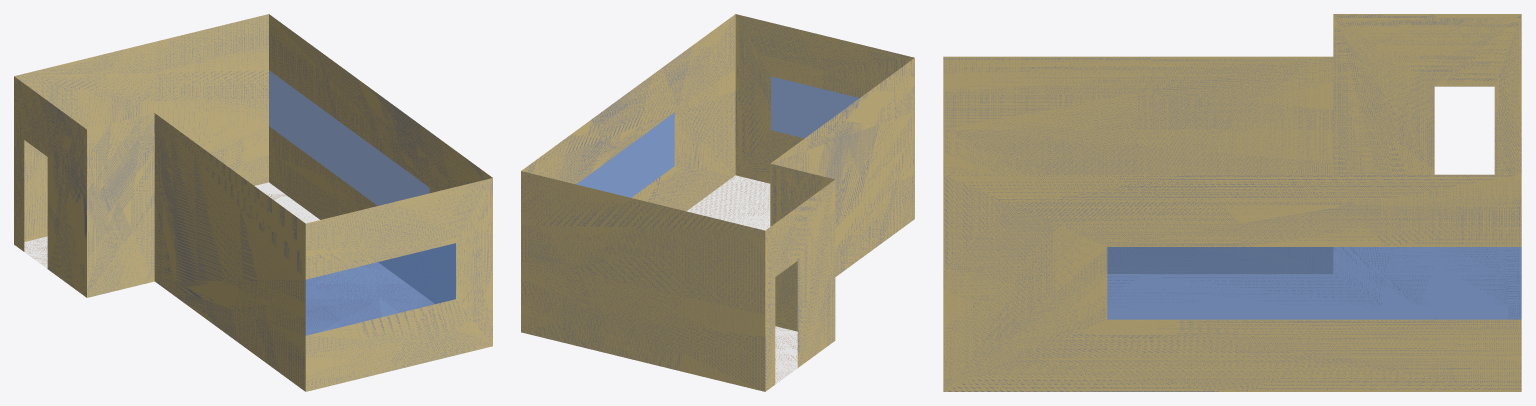
File: LAB008.obj
3 views of the same model, side by side, from view 1: azimuth 30°, elevation 25°; view 2: azimuth 150°, elevation 25°; view 3: azimuth 270°, elevation 25° (orthographic). The views are drawn at different scales.
Parts seen in each view (by area): view 1: Mesh1 LAB008 Model; view 2: Mesh1 LAB008 Model; view 3: Mesh1 LAB008 Model.
Part boxes in pixels (bbox=[...]): Mesh1 LAB008 Model: bbox=[14, 14, 492, 391]; Mesh1 LAB008 Model: bbox=[521, 14, 914, 391]; Mesh1 LAB008 Model: bbox=[943, 14, 1521, 391].
Bounding box in the file's own units: 4.78 × 3.02 × 7.27.
5 materials, 1 textured.
